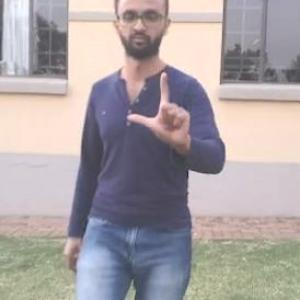land_hand: (123, 66, 195, 151)
